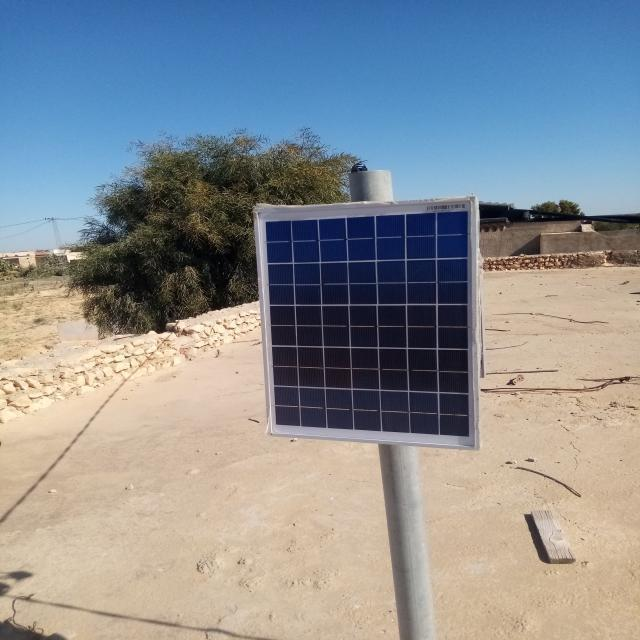Normal Solar Panel: (254, 197, 479, 450)
